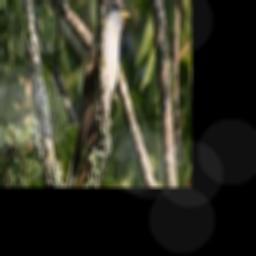Cuckoo: (65, 0, 132, 187)
